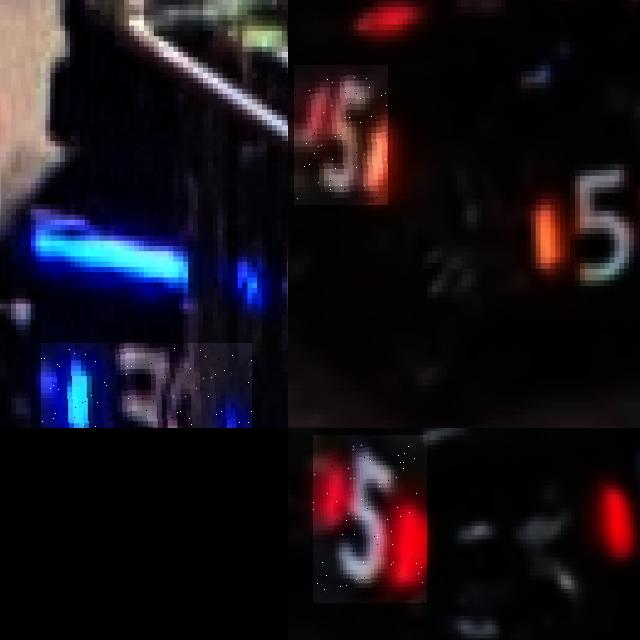B3: (40, 343, 252, 428)
R5: (313, 435, 427, 603), (530, 134, 640, 280), (294, 65, 388, 205), (605, 436, 640, 571)
